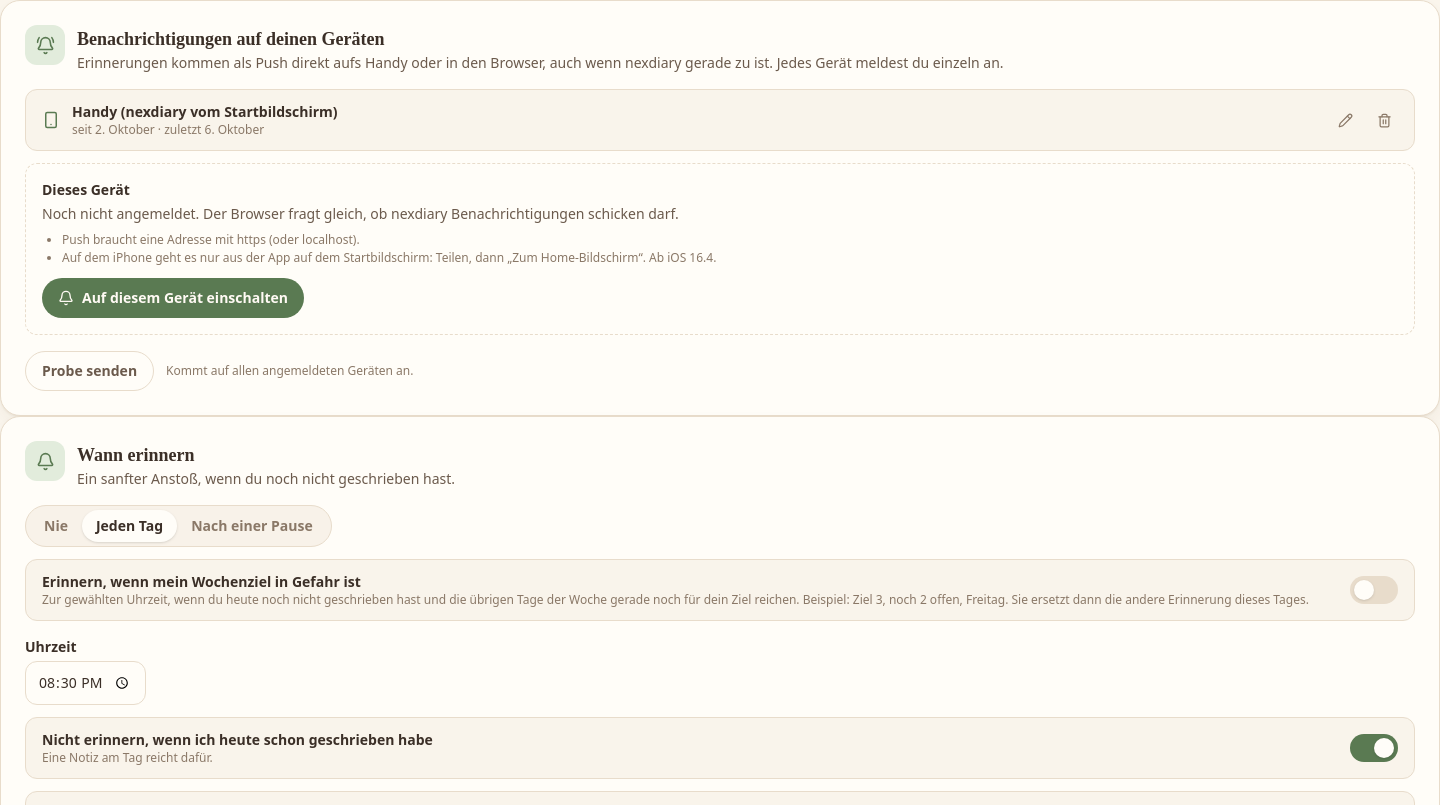
the devices › lists the own devices with since and last, and signs this browser up with the server key
The image size is (1440, 805).
Check: the element with test id "push-here" shows "Noch nicht angemeldet.", box left=42, top=204, right=679, bottom=223
Check: the element with test id "push-here" shows "Push braucht eine Adresse mit https (oder localhost).", box left=62, top=231, right=360, bottom=248
Click the button "Auf diesem Gerät einschalten" at (173, 298), box left=42, top=278, right=304, bottom=318
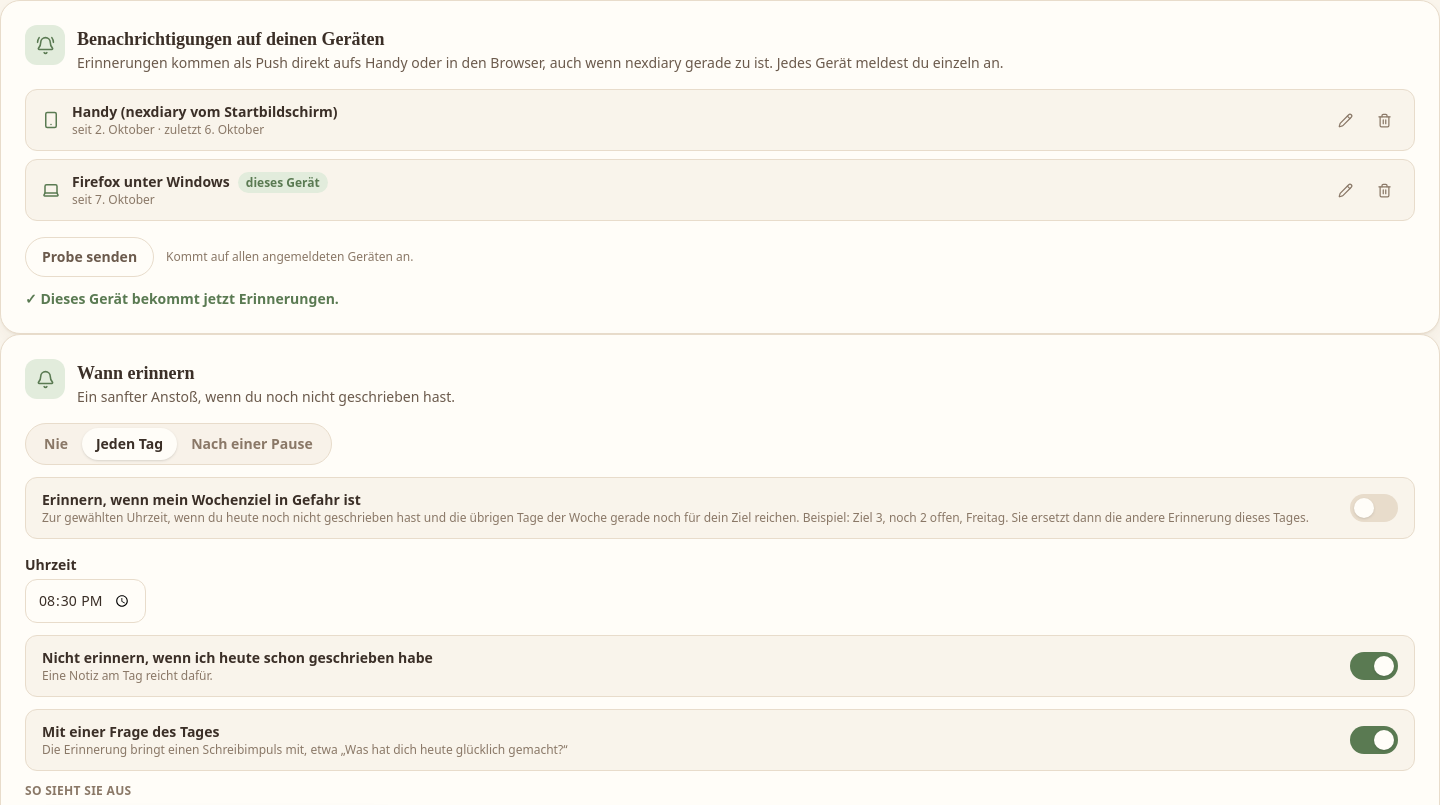
Check: the text "dieses Gerät" is shown, box left=238, top=172, right=328, bottom=193
Check: the text "Dieses Gerät bekommt jetzt Erinnerungen." is shown, box left=40, top=289, right=339, bottom=308
Check: the element with test id "push-here" is gone
